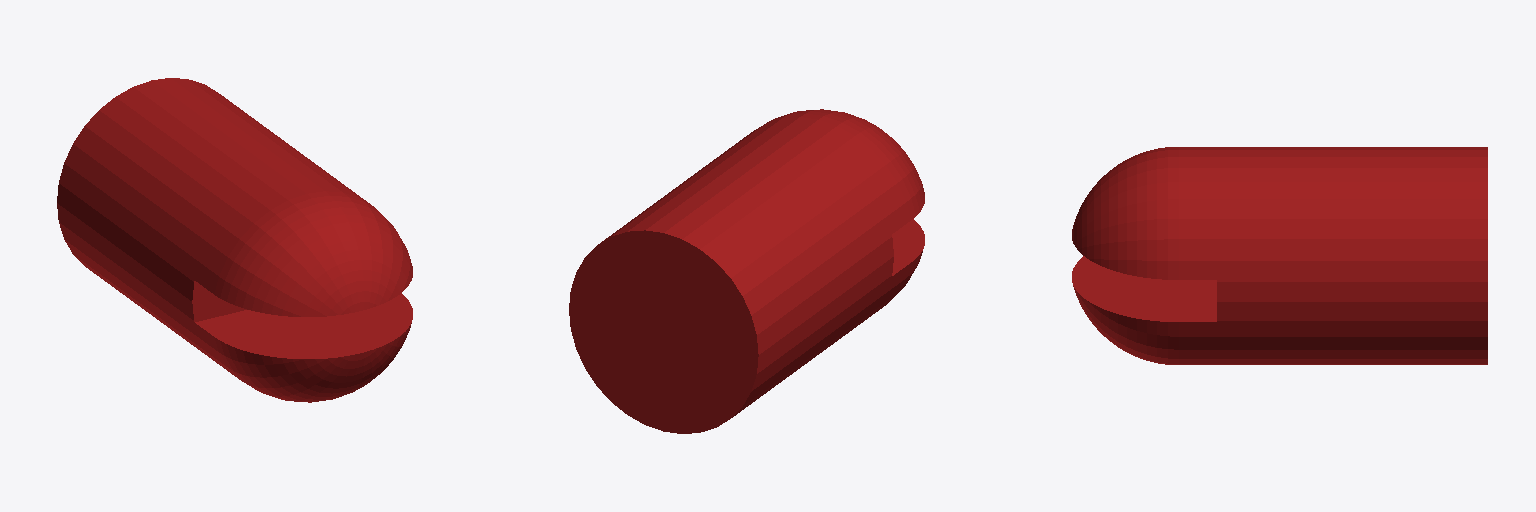
Rendered from basis.obj.
The picture shows the model from 3 angles: view 1: azimuth 30°, elevation 25°; view 2: azimuth 150°, elevation 25°; view 3: azimuth 270°, elevation 25°; orthographic projection.
Visible parts, largest first — view 1: Cube.002_Mesh.003; view 2: Cube.002_Mesh.003; view 3: Cube.002_Mesh.003.
Boxes of the visible parts, x1=… form: Cube.002_Mesh.003: x1=57, y1=78, x2=412, y2=402; Cube.002_Mesh.003: x1=569, y1=109, x2=924, y2=433; Cube.002_Mesh.003: x1=1072, y1=147, x2=1487, y2=364.
Bounding box in the file's own units: 2.83 × 2.83 × 5.38.